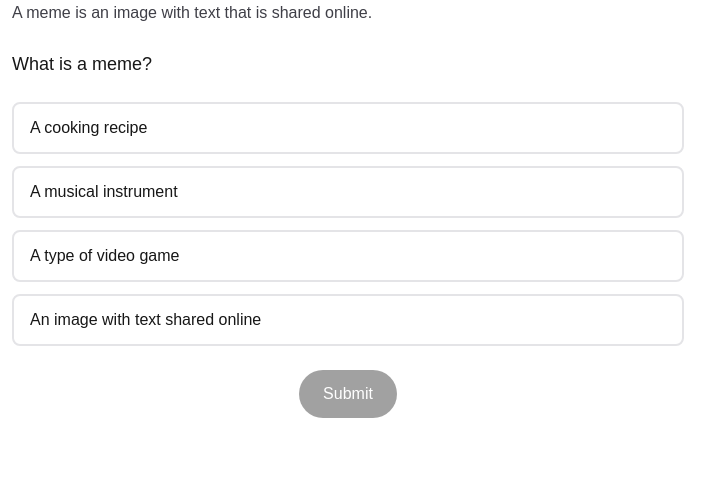
Test: ComprehensionCheck › submitting a wrong answer clears the selection (submit button disabled again)
The width and height of the screenshot is (701, 483).
Click the button "A cooking recipe" at [89, 128], box top-left (12, 102), bottom-right (684, 154)
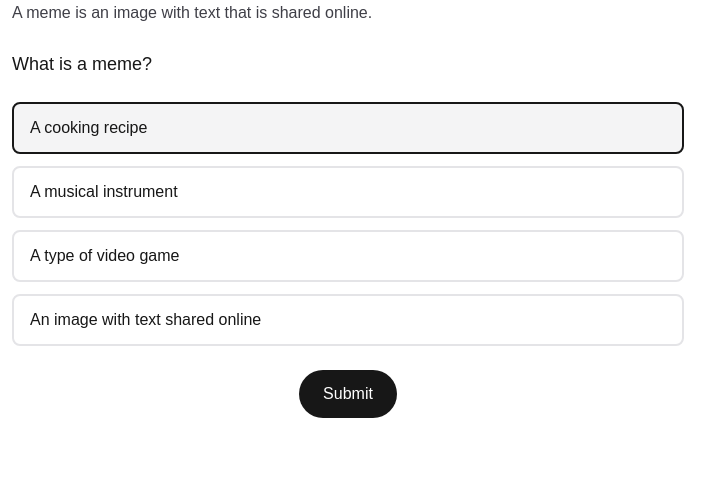
Click the button "Submit" at [348, 394], box top-left (299, 370), bottom-right (397, 418)
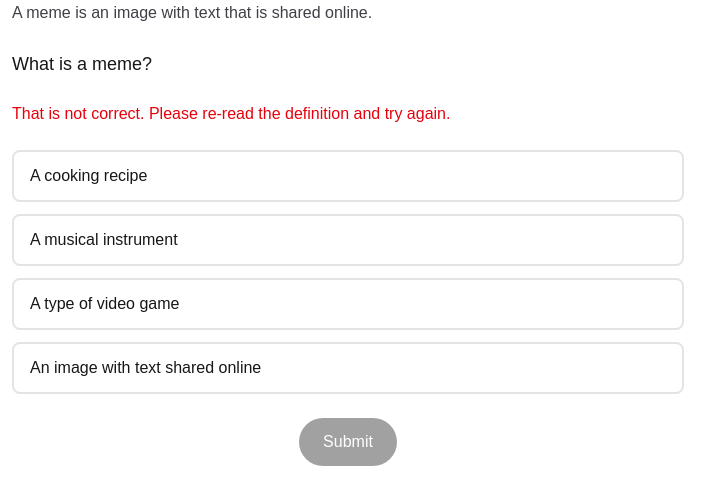
Expected: the button "Submit" is disabled, top-left (299, 418), bottom-right (397, 466)
